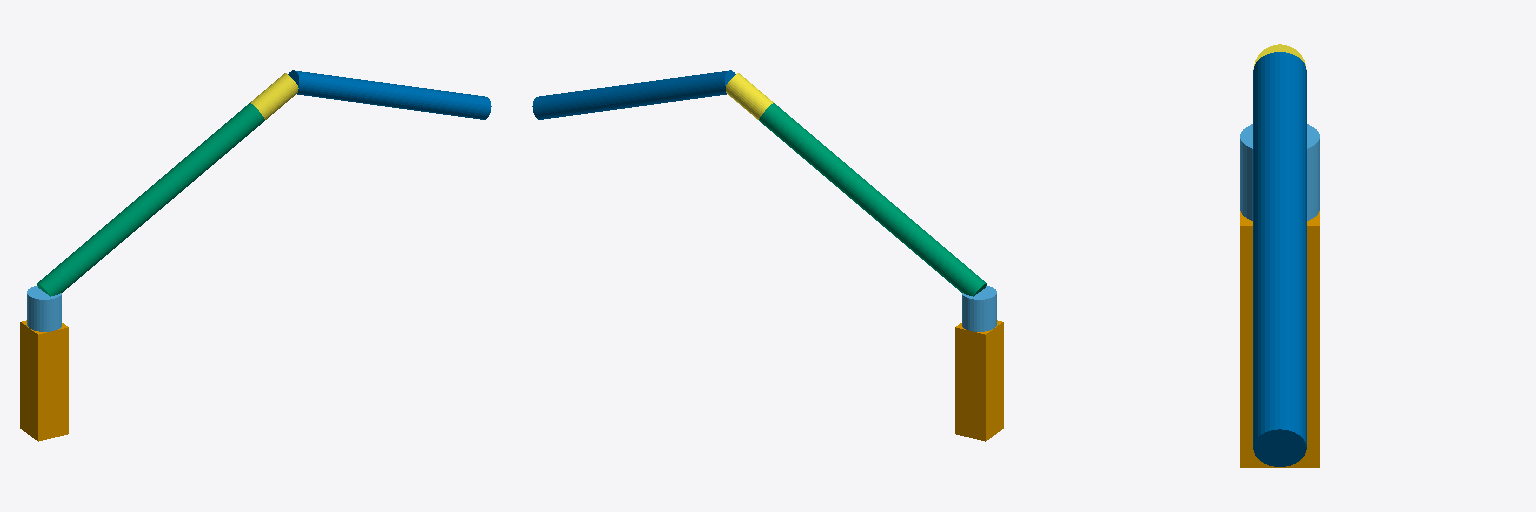
robot.urdf — crane:
<?xml version="1.0"?>
<robot name="crane">

	<!-- Arm of the crane -->

	<link name="base_link">
		<visual>
			<geometry>
				<box size="1.5 1.5 5"/>
			</geometry>
			<origin xyz="0 0 2.5"/>
		</visual>
		<collision>
			<geometry>
				<box size="1.5 1.5 5"/>
			</geometry>
			<origin xyz="0 0 2.5"/>
		</collision>
		
	</link>

	
	<joint name="base_to_link1" type="continuous">
		<axis xyz="0 0 1"/>
		<parent link="base_link"/>
		<child link="link1"/>
		<origin xyz="0 0 5"/>
	</joint>
	
	<link name="link1">
		<visual>
			<geometry>
				<cylinder length="1.5" radius="0.75"/>
			</geometry>
			<origin rpy="0 0 0" xyz="0 0 0.75"/>
		</visual>
		<collision>
			<geometry>
				<cylinder length="1.5" radius="0.75"/>
			</geometry>
			<origin rpy="0 0 0" xyz="0 0 0.75"/>
		</collision>
	</link>
	
	<joint name="link1_to_link2" type="revolute">
		<axis xyz="0 0 1"/>
		<limit effort="1000" upper="-0.175"  lower= "-0.873" velocity="1"/>
		<parent link="link1"/>
		<child link="link2"/>
		<origin rpy="-1.5707963 0 0" xyz="0 0 1.5"/>
	</joint>
	
  
	<link name="link2">
		<visual>
			<geometry>
				<cylinder length="12" radius="0.5"/>
			</geometry>
			<origin rpy="0 -1.5707963 0" xyz="6 0 0"/>
		</visual>
		<collision>
			<geometry>
				<cylinder length="12" radius="0.5"/>
			</geometry>
			<origin rpy="0 -1.5707963 0" xyz="6 0 0"/>
		</collision>
	</link>
	<!-- [local-path]/dev/crane_ws/src/crane_description/config/crane.urdf -->


	<joint name="Link2_to_link3" type="revolute">
		<axis xyz="0 0 1"/>
		<limit effort="1000" lower="0" upper = "1.5707963" velocity="1"/>
		<parent link="link2"/>
		<child link="link3"/>
		<origin xyz="12 0 0"/>
	</joint>
	
	<link name="link3">
		<visual>
			<geometry>
				<cylinder length="2" radius="0.5"/>
			</geometry>
			<origin rpy="0 -1.5707963 0" xyz="1 0 0"/>
		</visual>
		<collision>
			<geometry>
				<cylinder length="2" radius="0.5"/>
			</geometry>
			<origin rpy="0 -1.5707963 0" xyz="1 0 0"/>
		</collision>
	</link>

    <joint name ="Link3_to_Link4" type="revolute">
		<axis xyz="0 0 1"/>
		<limit effort="1000" lower="0.175" upper="1.5707963" velocity = "1"/>
		<parent link="link3"/>
		<child link="link4"/>
		<origin xyz="2 0 0"/>
	</joint>
	
	<link name ="link4">
		<visual>
			<geometry>
				<cylinder length="10" radius="0.5"/>
			</geometry>
			<origin rpy="0 -1.5707936 0" xyz="5 0 0"/>
		</visual>
		<collision>
			<geometry>
				<cylinder length="10" radius="0.5"/>
			</geometry>
			<origin rpy="0 -1.5707936 0" xyz="5 0 0"/>
		</collision>
	</link>
	
	<!--<joint name="Link4_to_Link5" type="revolute">
		<axis xyz="0 0 1"/>
		<limit effort="1000" lower="-0.9" upper ="0.9" velocity="1"/>
		<parent link="link4"/>
		<child link="link5"/>
		<origin xyz="10 0 0"/>
	</joint>
	
	<link name="link5">
		<visual>
			<geometry>
				<cylinder length="1.5" radius="0.5"/>
			</geometry>
			<origin rpy="-1.5707936 -1.5707936 0" xyz="0 0.75 0"/>
		</visual>
		<collision>
			<geometry>
				<cylinder length="1.5" radius="0.5"/>
			</geometry>
			<origin rpy="-1.5707936 -1.5707936 0" xyz="0 0.75 0"/>
		</collision>
	</link>

	<joint name="link5_to_Gripper" type="continuous">
		<axis xyz="0 0 1"/>
		<parent link="link5"/>
		<child link="gripper_base"/>
		<origin rpy="-1.5707936 0 0" xyz="0 1.5 0"/>
	</joint> -->

	<!-- Start of gripper -->

	<!-- <link name="gripper_base">
		<visual>
			<geometry>
				<box size="5 2 0.5"/>
			</geometry>
			<origin xyz="0 0 0.25"/>
		</visual>
		<collision>
			<geometry>
				<box size="5 2 0.5"/>
			</geometry>
			<origin xyz="0 0 0.25"/>
		</collision>
	</link> -->
	
	<!-- Gripper in the front -->
	
	<!-- <joint name="gbase_to_flg" type="revolute">
		<axis xyz="0 0 1"/>
		<limit effort="1000" lower="-0.9" upper ="0.16" velocity="1"/>
		<parent link="gripper_base"/>
		<child link="flgripper1"/>
		<origin rpy="1.5707963 -0.7853981 -1.5707963" xyz="2 -0.33 0.5"/>
	</joint>

	<link name="flgripper1">
		<visual>
			<geometry>
				<box size="1 0.15 0.5"/>
			</geometry>
			<origin xyz="0.5 0 0"/>
		</visual>
		<collision>
			<geometry>
				<box size="1 0.15 0.5"/>
			</geometry>
			<origin xyz="0.5 0 0"/>
		</collision>
	</link>

	<joint name="flg1_to_flg2" type="fixed">
		<parent link="flgripper1"/>
		<child link="flgripper2"/>
		<origin xyz="1 0 0"/>
	</joint>

	<link name="flgripper2">
		<visual>
			<geometry>
				<box size="0.15 1 0.5"/>
			</geometry>
			<origin xyz="0 0.5 0"/>
		</visual>
		<collision>
			<geometry>
				<box size="0.15 1 0.5"/>
			</geometry>
			<origin xyz="0 0.5 0"/>
		</collision>
	</link>

	<joint name="gbase_to_frg" type="revolute">
		<axis xyz="0 0 1"/>
		<limit effort="1000" lower="-0.16" upper ="0.9" velocity="1"/>
		<parent link="gripper_base"/>
		<child link="frgripper1"/>
		<origin rpy="1.5707963 -0.7853981 -1.5707963" xyz="2 0.33 0.5"/>
	</joint>

	<link name="frgripper1">
		<visual>
			<geometry>
				<box size="0.15 1 0.5"/>
			</geometry>
			<origin xyz="0 0.5 0"/>
		</visual>
		<collision>
			<geometry>
				<box size="0.15 1 0.5"/>
			</geometry>
			<origin xyz="0 0.5 0"/>
		</collision>
	</link>

	<joint name="frg1_to_frg2" type="fixed">
		<parent link="frgripper1"/>
		<child link="frgripper2"/>
		<origin xyz="0 1 0"/>
	</joint>

	<link name="frgripper2">
		<visual>
			<geometry>
				<box size="1 0.15 0.5"/>
			</geometry>
			<origin xyz="0.5 0 0"/>
		</visual>
		<collision>
			<geometry>
				<box size="1 0.15 0.5"/>
			</geometry>
			<origin xyz="0.5 0 0"/>
		</collision>
	</link> -->

<!-- Gripper in the back -->

<!-- <joint name="gbase_to_blg" type="revolute">
		<axis xyz="0 0 1"/>
		<limit effort="1000" lower="-0.9" upper ="0.16" velocity="1"/>
		<parent link="gripper_base"/>
		<child link="blgripper1"/>
		<origin rpy="1.5707963 -0.7853981 -1.5707963" xyz="-2 -0.33 0.5"/>
	</joint>

	<link name="blgripper1">
		<visual>
			<geometry>
				<box size="1 0.15 0.5"/>
			</geometry>
			<origin xyz="0.5 0 0"/>
		</visual>
		<collision>
			<geometry>
				<box size="1 0.15 0.5"/>
			</geometry>
			<origin xyz="0.5 0 0"/>
		</collision>
	</link>

	<joint name="blg1_to_blg2" type="fixed">
		<parent link="blgripper1"/>
		<child link="blgripper2"/>
		<origin xyz="1 0 0"/>
	</joint>

	<link name="blgripper2">
		<visual>
			<geometry>
				<box size="0.15 1 0.5"/>
			</geometry>
			<origin xyz="0 0.5 0"/>
		</visual>
		<collision>
			<geometry>
				<box size="0.15 1 0.5"/>
			</geometry>
			<origin xyz="0 0.5 0"/>
		</collision>
	</link>

	<joint name="gbase_to_brg" type="revolute">
		<axis xyz="0 0 1"/>
		<limit effort="1000" lower="-0.16" upper ="0.9" velocity="1"/>
		<parent link="gripper_base"/>
		<child link="brgripper1"/>
		<origin rpy="1.5707963 -0.7853981 -1.5707963" xyz="-2 0.33 0.5"/>
	</joint>

	<link name="brgripper1">
		<visual>
			<geometry>
				<box size="0.15 1 0.5"/>
			</geometry>
			<origin xyz="0 0.5 0"/>
		</visual>
		<collision>
			<geometry>
				<box size="0.15 1 0.5"/>
			</geometry>
			<origin xyz="0 0.5 0"/>
		</collision>
	</link>

	<joint name="brg1_to_brg2" type="fixed">
		<parent link="brgripper1"/>
		<child link="brgripper2"/>
		<origin xyz="0 1 0"/>
	</joint>

	<link name="brgripper2">
		<visual>
			<geometry>
				<box size="1 0.15 0.5"/>
			</geometry>
			<origin xyz="0.5 0 0"/>
		</visual>
		<collision>
			<geometry>
				<box size="1 0.15 0.5"/>
			</geometry>
			<origin xyz="0.5 0 0"/>
		</collision>
	</link> -->


</robot>

--- Render facts (derived) ---
3 views of the same robot in one strip: view 1: azimuth 30°, elevation 25°; view 2: azimuth 150°, elevation 25°; view 3: azimuth 270°, elevation 25° (orthographic).
Model crane with 5 links and 4 joints (3 revolute, 1 continuous), rooted at base_link, posed all joints at 0 but 2 set to mid-range because 0 is outside their limits (link1_to_link2 = -0.524, Link3_to_Link4 = 0.8729).
Links seen in each view (by area): view 1: link2, base_link, link4, link1, link3; view 2: link2, base_link, link4, link1, link3; view 3: link4, base_link, link1.
Boxes of the visible links, box(x1,y1,x2,y2) form: link2: box(37, 103, 264, 296); base_link: box(20, 320, 68, 441); link4: box(288, 70, 491, 119); link1: box(27, 286, 61, 331); link3: box(250, 73, 298, 119); link2: box(759, 103, 986, 296); base_link: box(955, 320, 1003, 441); link4: box(532, 70, 735, 119); link1: box(962, 286, 996, 331); link3: box(726, 73, 773, 119); link4: box(1253, 52, 1306, 466); base_link: box(1240, 211, 1319, 467); link1: box(1240, 124, 1319, 220).
Size in the robot's own frame: 22.44 by 1.5 by 13.97 metres.
Geometry: primitives only (box / cylinder / sphere), no mesh files.
